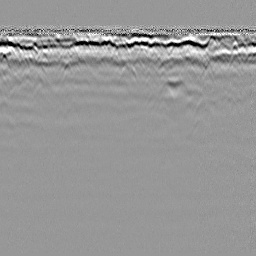cavity: (118, 62, 139, 83)
